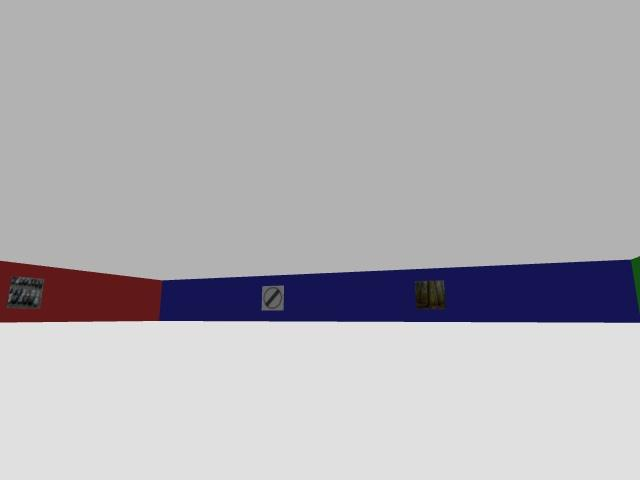fastsign: (261, 286, 283, 310)
tree: (417, 281, 428, 308), (426, 281, 434, 304)
